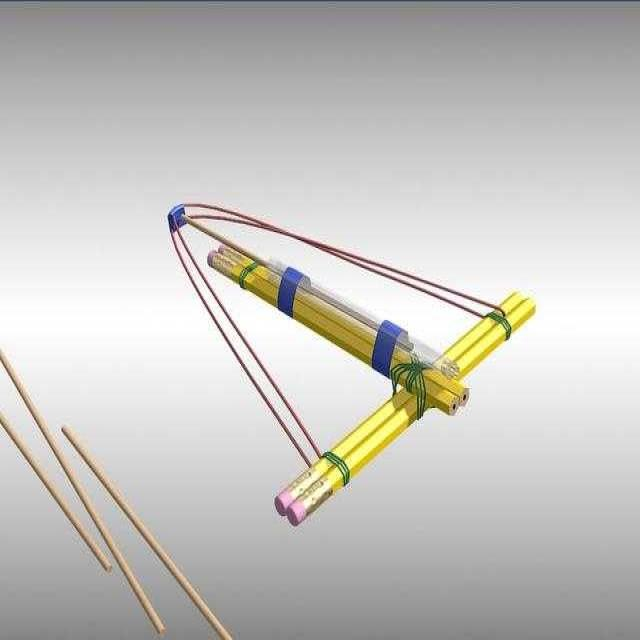pencil: (269, 272, 560, 555), (189, 232, 493, 424)
